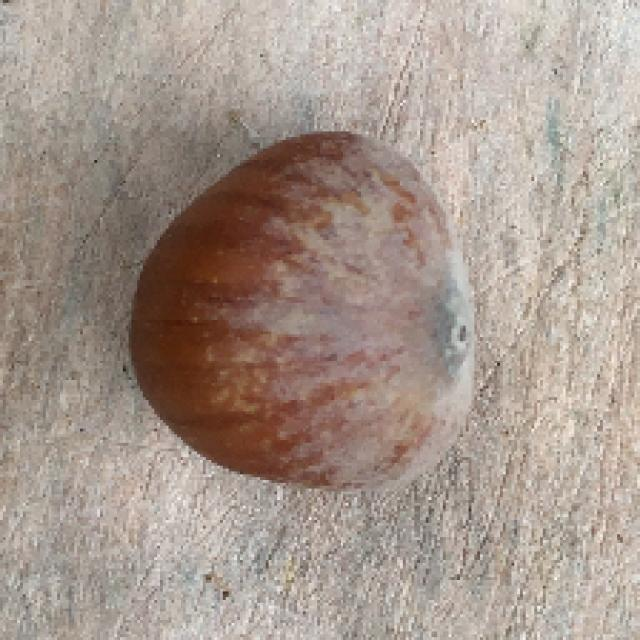QualityHazelnut: (124, 126, 479, 494)
